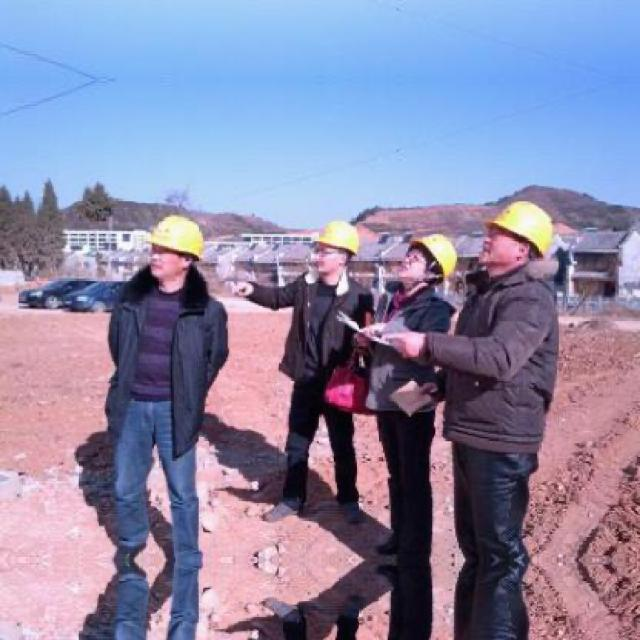helmet: (478, 194, 560, 275), (146, 209, 212, 285), (395, 229, 460, 289), (311, 214, 363, 275)
